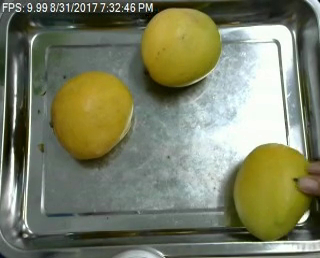Mango: (232, 143, 314, 240), (52, 70, 132, 157), (141, 7, 220, 87)
